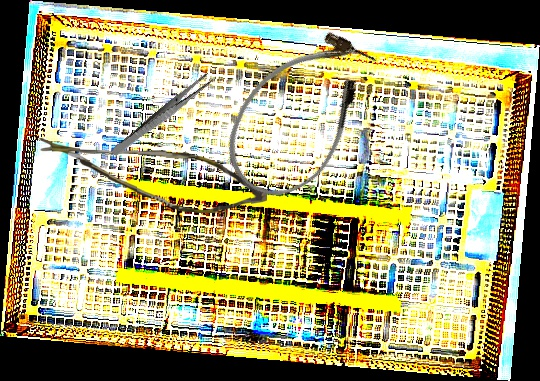Cannula: (204, 10, 397, 218)
Dressing Forceps: (109, 71, 215, 160)
Micro Scissor: (33, 137, 270, 216)
